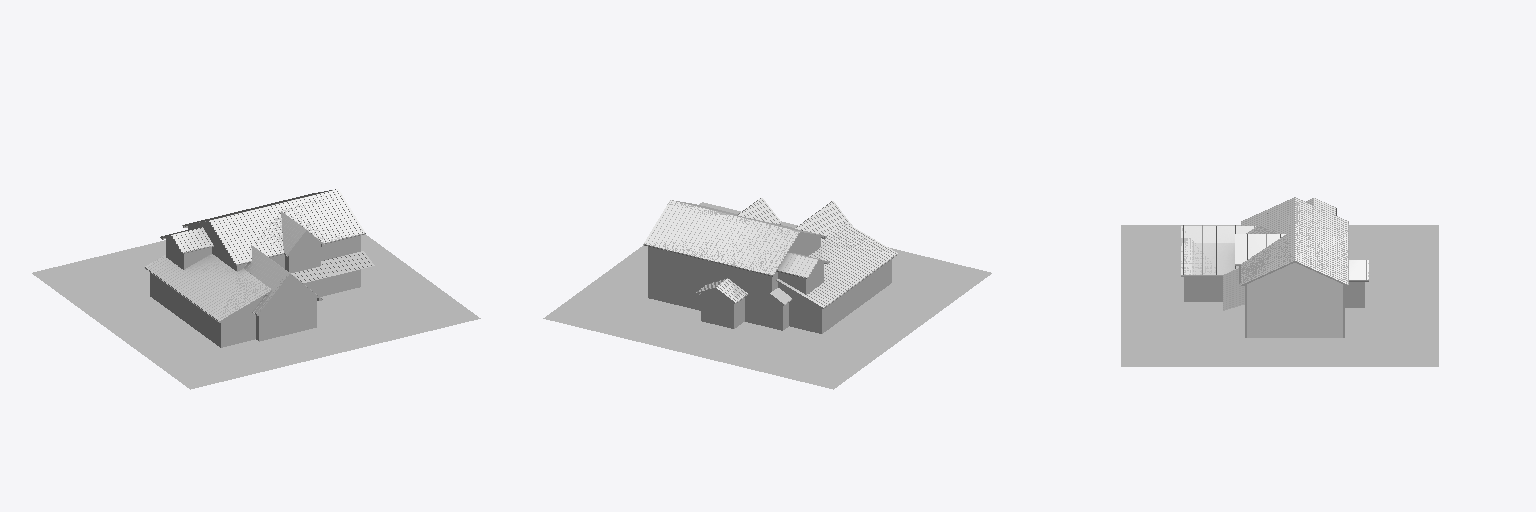
The picture shows the model from 3 angles: view 1: azimuth 30°, elevation 25°; view 2: azimuth 150°, elevation 25°; view 3: azimuth 270°, elevation 25°; orthographic projection.
Parts seen in each view (by area): view 1: lot, shell, roof_primary_2, roof_primary_1; view 2: lot, shell, roof_primary_2, roof_primary_1; view 3: lot, shell, roof_primary_2, roof_primary_1.
Part boxes in pixels (x1,y1,x2,y2): lot: (32,234,480,389); shell: (144,221,374,347); roof_primary_2: (145,189,364,320); roof_primary_1: (148,189,364,319); lot: (543,202,991,389); shell: (643,223,897,333); roof_primary_2: (644,198,897,307); roof_primary_1: (644,198,895,305); lot: (1121,225,1438,366); shell: (1181,208,1368,337); roof_primary_2: (1181,198,1368,284); roof_primary_1: (1181,197,1368,284).
Size of the model in its own units: 107 by 27.9 by 101.
4 materials, 1 textured.